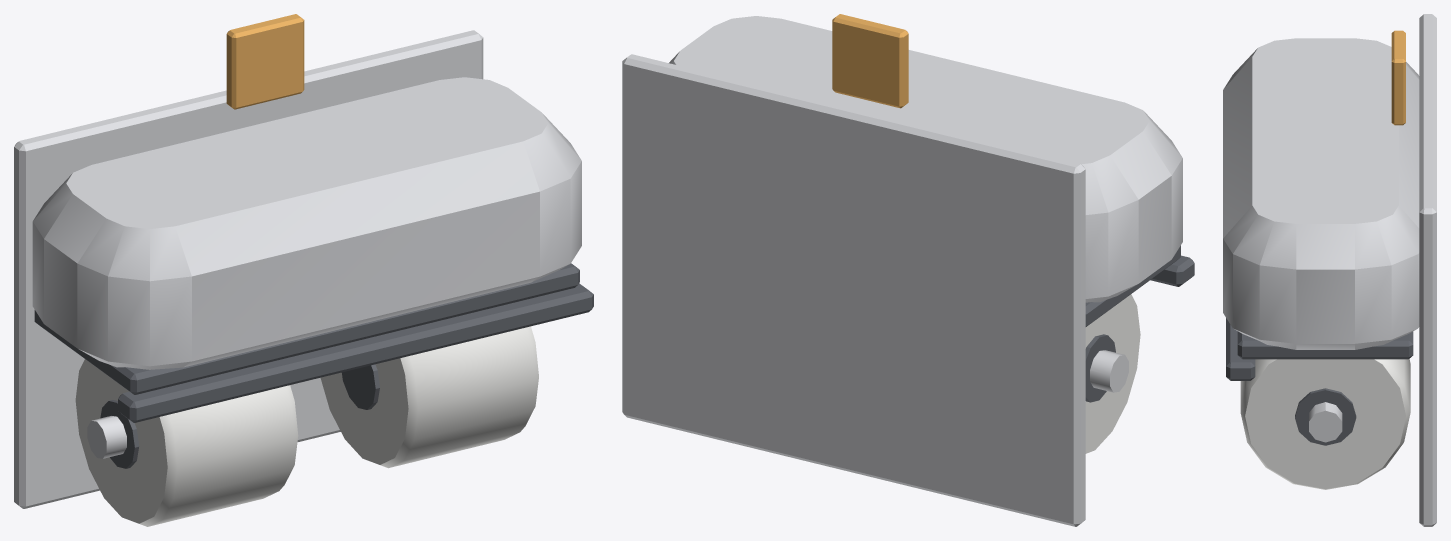
File: office-lobby-and-facilities-toilet-roll-dispenser-1f385aa6__26190.glb
The picture shows the model from 3 angles, left to right: view 1: azimuth 30°, elevation 25°; view 2: azimuth 150°, elevation 25°; view 3: azimuth 270°, elevation 25°; orthographic projection. The views are drawn at different scales.
Visible parts, largest first — view 1: toilet-roll-dispenser; view 2: toilet-roll-dispenser; view 3: toilet-roll-dispenser.
Part boxes in pixels (bbox=[...]): toilet-roll-dispenser: bbox=[14, 14, 593, 526]; toilet-roll-dispenser: bbox=[622, 14, 1194, 526]; toilet-roll-dispenser: bbox=[1223, 14, 1436, 526].
Bounding box in the file's own units: 0.34 × 0.29 × 0.146.
